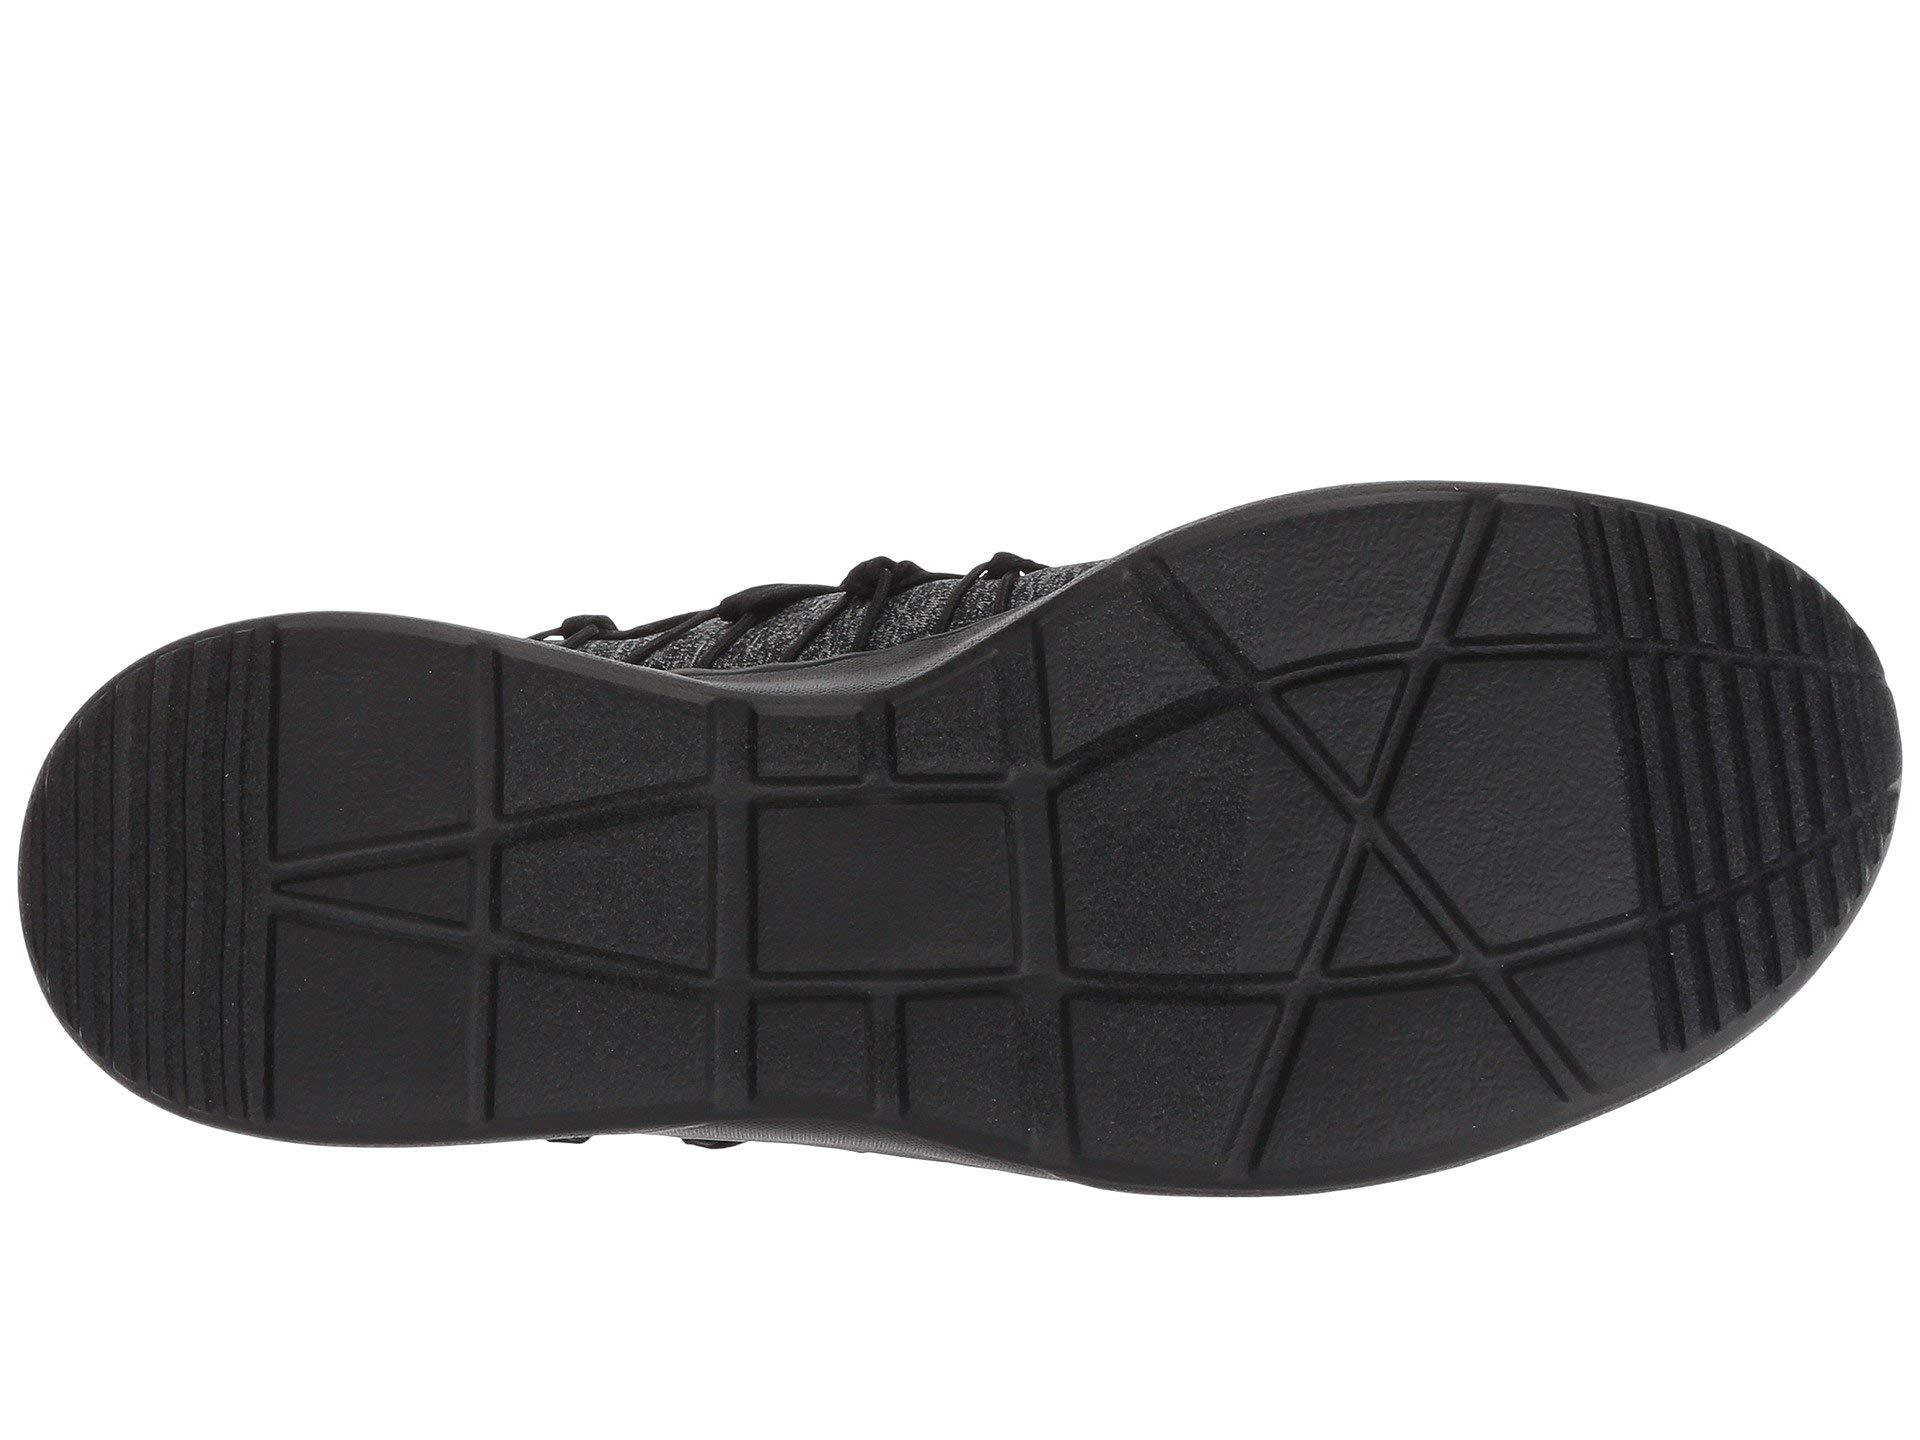polygon: (1011, 631, 1534, 1224)
quad: (1011, 631, 1534, 1224), (221, 597, 635, 1012), (1590, 560, 1897, 935), (691, 900, 949, 1159)
triangle: (1011, 631, 1534, 1224), (221, 597, 635, 1012)
